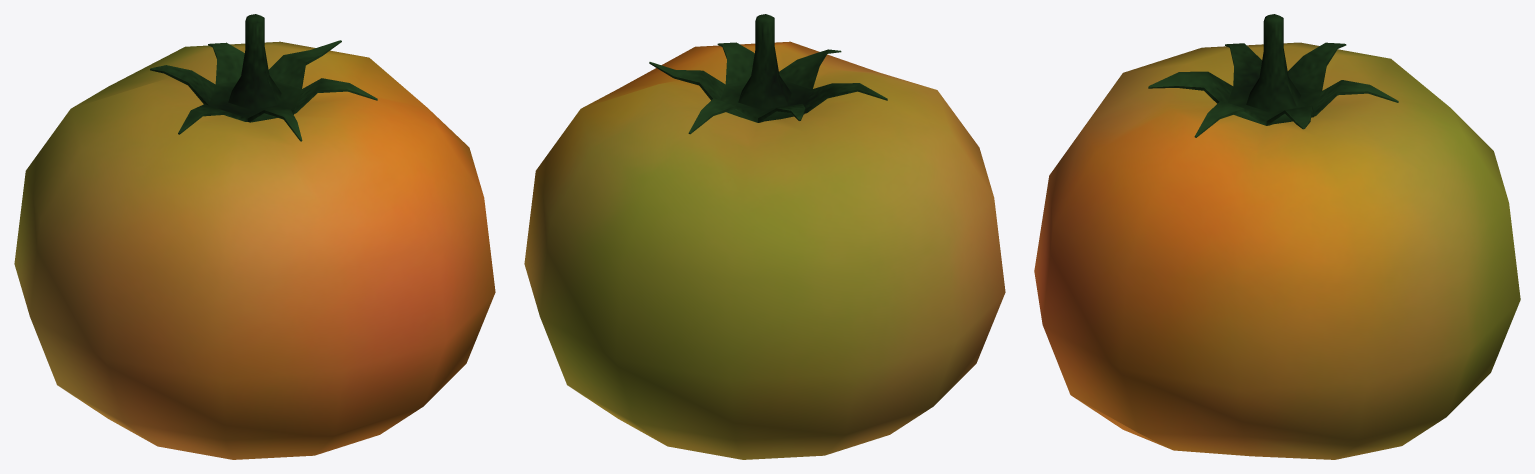
File: Tomato Orange Green.fbx
3 renders of one model, left to right at view 1: azimuth 30°, elevation 25°; view 2: azimuth 150°, elevation 25°; view 3: azimuth 270°, elevation 25°, orthographic. The views are drawn at different scales.
Visible parts, largest first — view 1: Tomato._orange_green; view 2: Tomato._orange_green; view 3: Tomato._orange_green.
Part boxes in pixels (<box>): Tomato._orange_green: <box>14,14,495,459</box>; Tomato._orange_green: <box>524,14,1005,459</box>; Tomato._orange_green: <box>1034,14,1520,459</box>.
Size of the model in its own units: 195 by 180 by 192.
